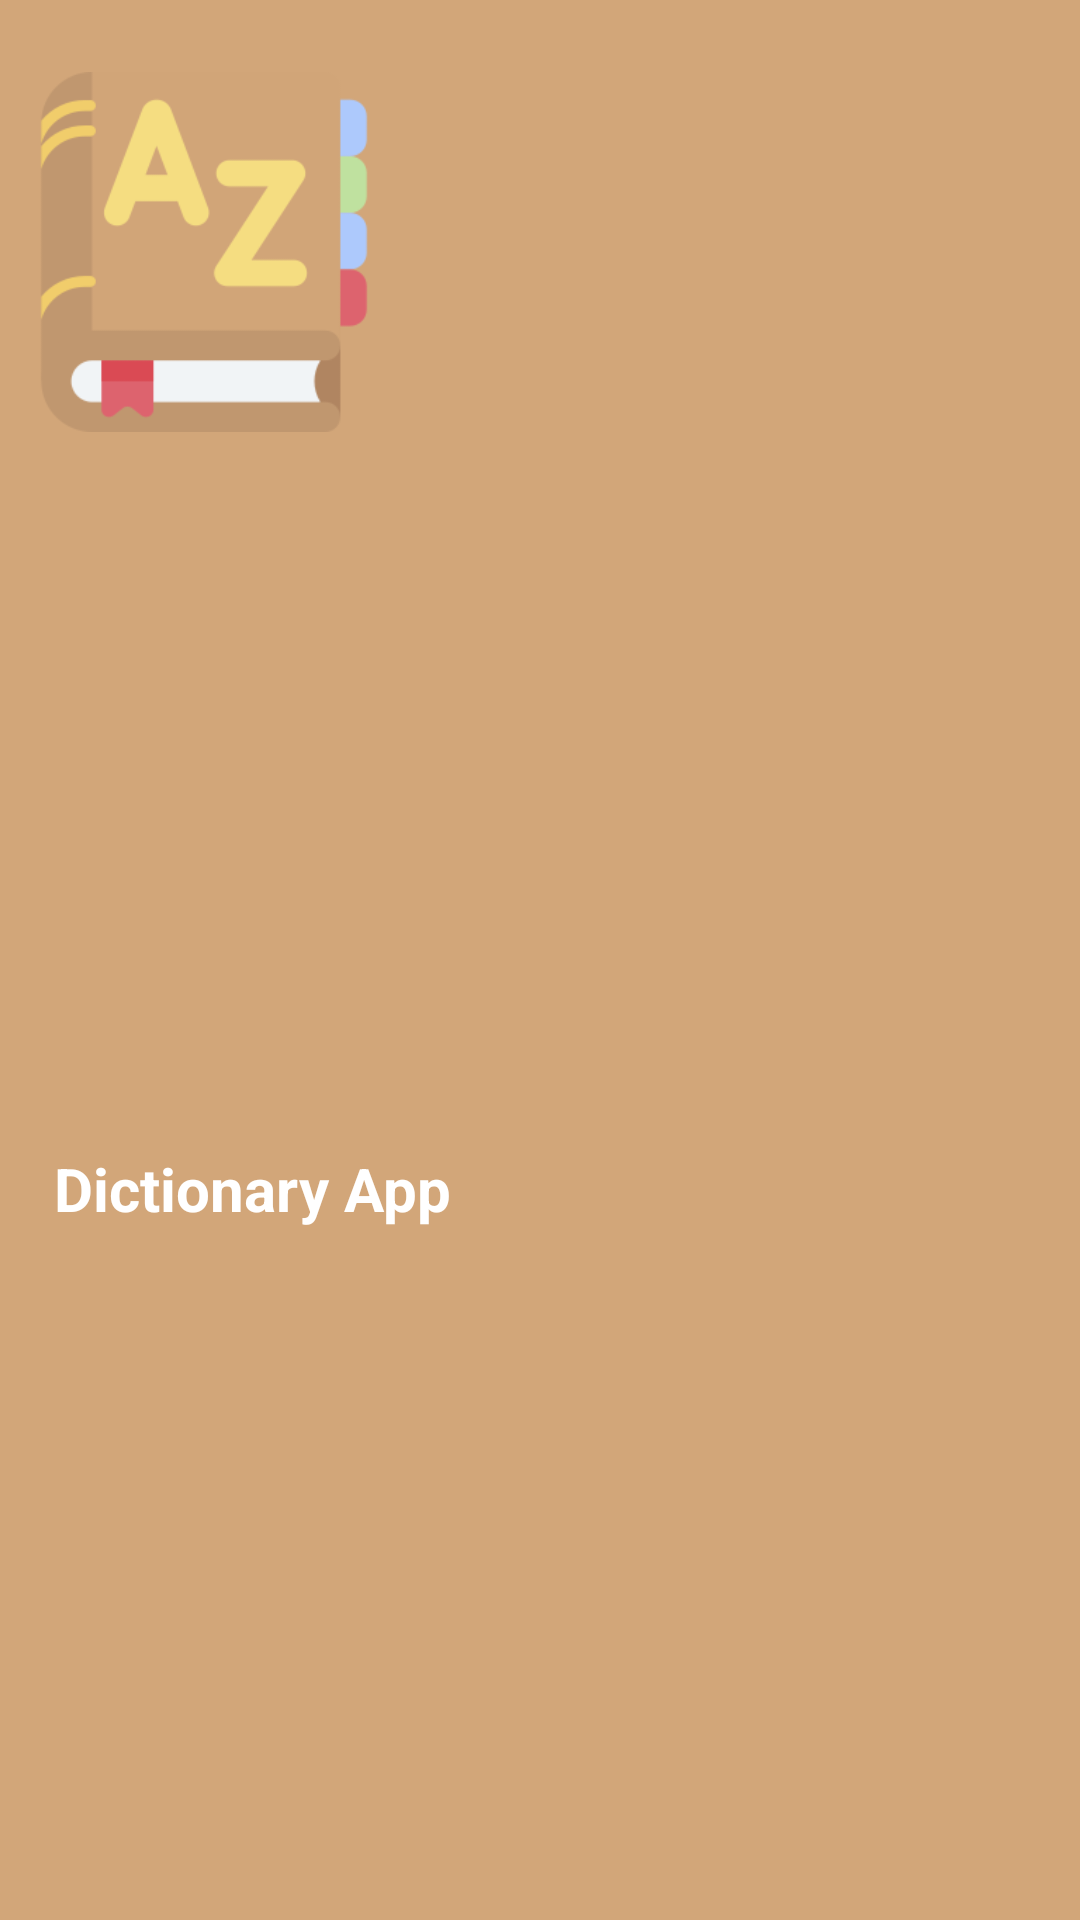

Icon bounding boxes for this 1080*1920 phone screenshot, format (x1, y1, x2, y2):
dictionary: (42, 99, 367, 418)
